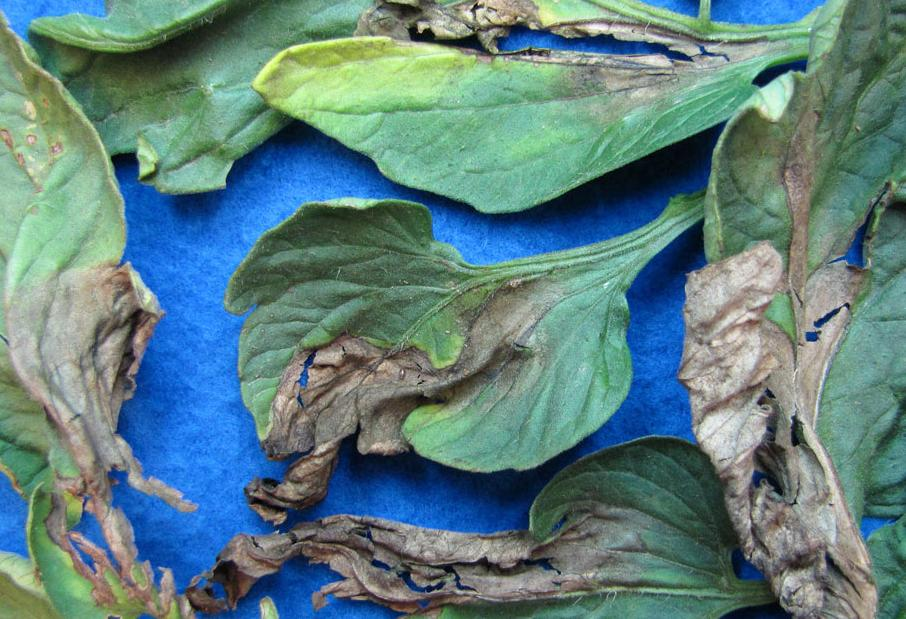Tomato leaf late blight: (674, 0, 906, 569), (211, 192, 682, 472), (216, 429, 814, 619), (0, 0, 187, 597), (279, 0, 818, 207)
